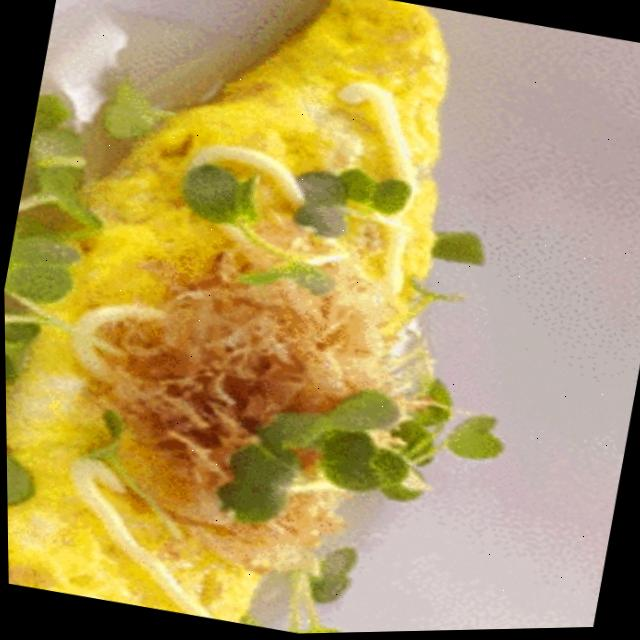鸡蛋料理: (0, 0, 521, 640)
